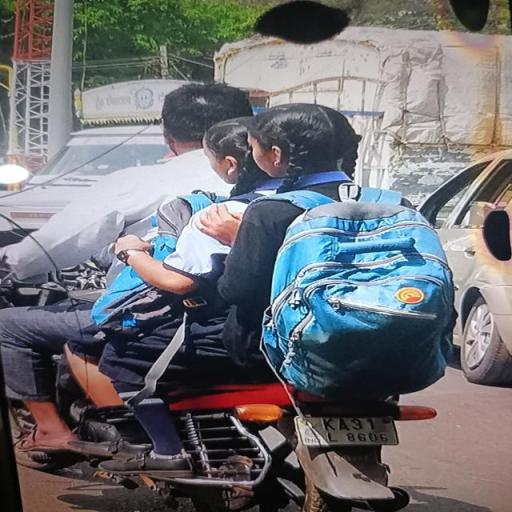tripple riding: (2, 75, 472, 383)
